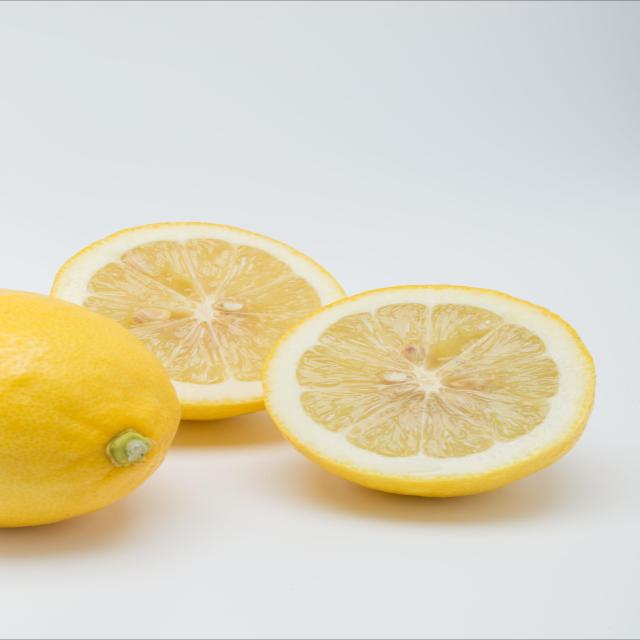lemon: (252, 280, 602, 502)
